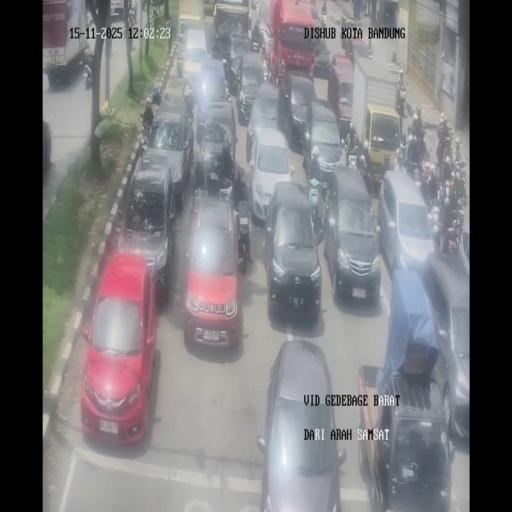car: (257, 338, 345, 510), (80, 255, 159, 444), (182, 197, 244, 351), (425, 246, 470, 441), (323, 168, 381, 304), (379, 170, 436, 278), (144, 98, 193, 200), (248, 124, 294, 225), (195, 105, 237, 194), (306, 98, 343, 186), (235, 52, 266, 124), (197, 56, 231, 117), (175, 14, 205, 78), (211, 24, 235, 62), (311, 39, 332, 78), (347, 30, 373, 60), (258, 16, 276, 57), (308, 2, 319, 23)
motorcycle: (308, 182, 324, 242), (236, 217, 253, 268), (189, 184, 204, 236), (356, 154, 374, 197), (406, 146, 424, 184), (452, 151, 468, 190), (442, 221, 460, 255), (428, 199, 442, 239), (440, 154, 454, 185), (140, 114, 153, 146), (395, 80, 406, 116), (126, 7, 135, 49), (185, 91, 196, 124), (394, 142, 406, 170), (82, 60, 92, 90), (165, 16, 173, 49), (382, 150, 391, 178), (347, 149, 359, 169), (106, 25, 114, 55), (152, 82, 161, 106), (262, 56, 269, 82), (360, 0, 368, 17), (340, 14, 346, 32), (321, 12, 327, 28)
truck: (350, 52, 403, 170), (267, 0, 318, 87), (42, 0, 88, 86), (330, 57, 356, 128)
